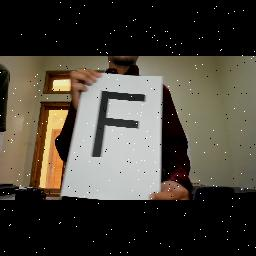f: (88, 89, 150, 165)
